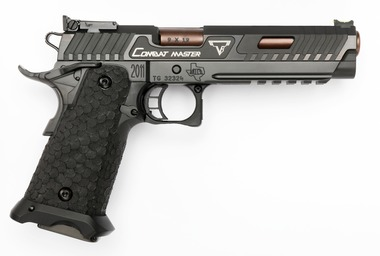gun: (8, 11, 363, 244)
